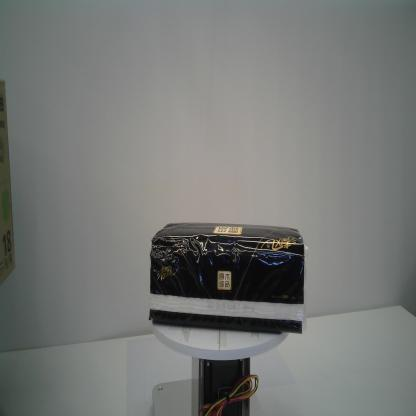Tissue: (146, 222, 309, 336)
